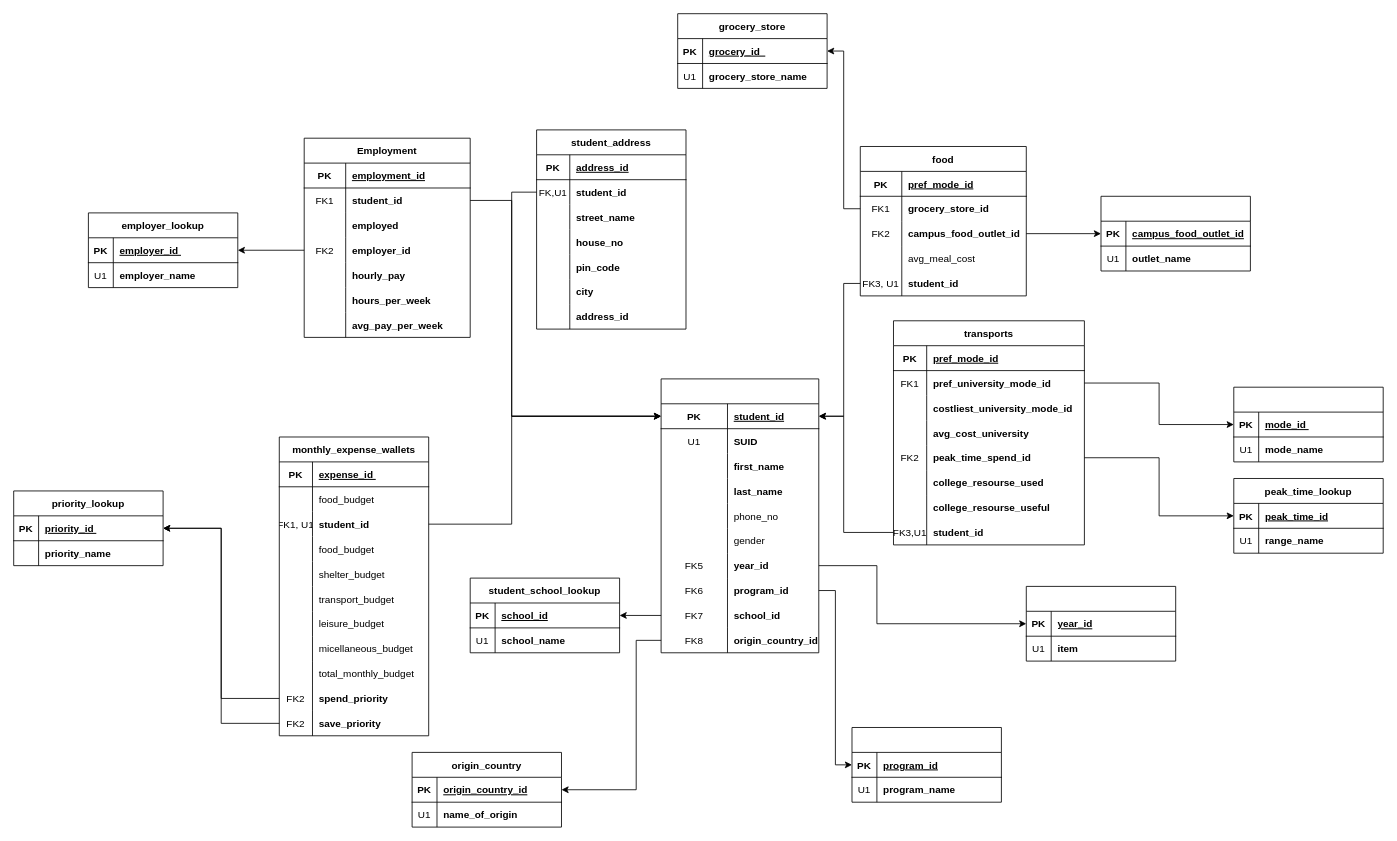
This 1397x841 diagram has some shape labels left out. The shapes that lost their labels are listed below. From the top down, each one's box as (x1, y1, x2, y2) in pixels, then its label:
(1100, 195, 1250, 271): campus_food_outlet_lookup
(1233, 386, 1383, 462): transport_mode
(660, 378, 819, 653): student_personal
(1025, 586, 1176, 661): student_year_lookup
(851, 727, 1001, 802): student_program_lookup
